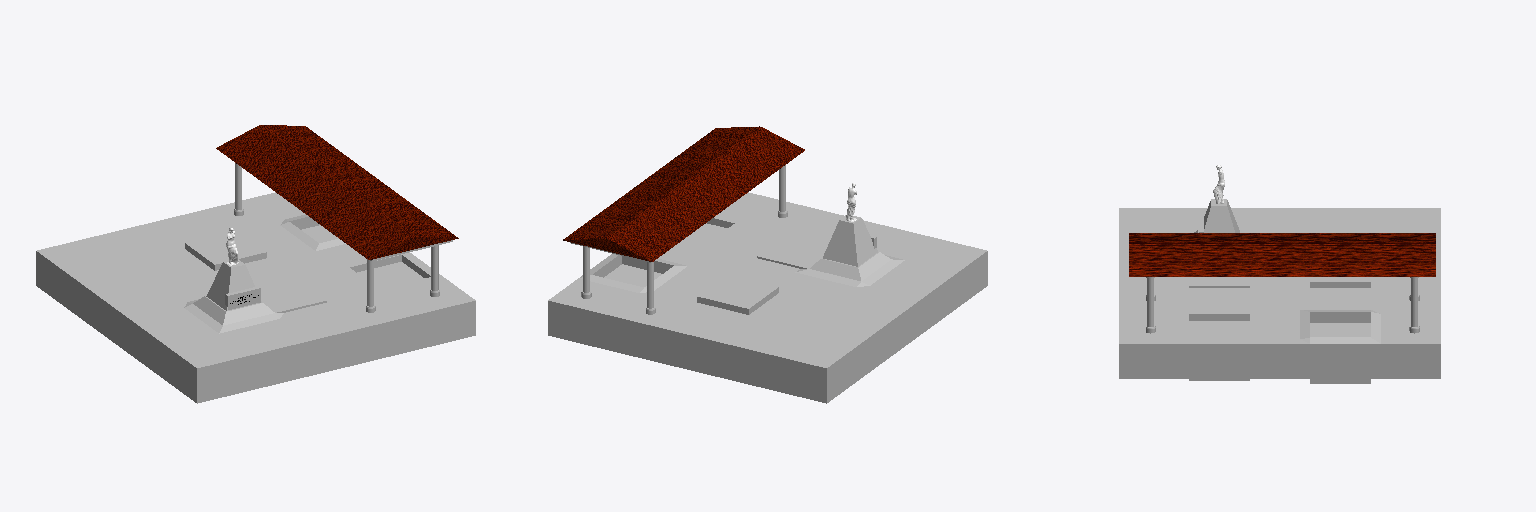
3 renders of one model, left to right at view 1: azimuth 30°, elevation 25°; view 2: azimuth 150°, elevation 25°; view 3: azimuth 270°, elevation 25°, orthographic.
Visible parts, largest first — view 1: Plane, Cube_Cube.001, Cube.001_Cube, Cylinder; view 2: Plane, Cube_Cube.001, Cube.001_Cube, Cylinder; view 3: Plane, Cube_Cube.001, Cube.001_Cube, Cylinder.
Part boxes in pixels (left/top/right/bottom): Plane: left=36, top=192, right=475, bottom=403; Cube_Cube.001: left=216, top=125, right=458, bottom=259; Cube.001_Cube: left=206, top=259, right=261, bottom=310; Cylinder: left=234, top=163, right=452, bottom=312; Plane: left=548, top=192, right=987, bottom=403; Cube_Cube.001: left=563, top=126, right=804, bottom=261; Cube.001_Cube: left=823, top=215, right=877, bottom=266; Cylinder: left=570, top=165, right=787, bottom=314; Plane: left=1119, top=208, right=1440, bottom=383; Cube_Cube.001: left=1129, top=233, right=1435, bottom=276; Cube.001_Cube: left=1199, top=199, right=1239, bottom=232; Cylinder: left=1146, top=277, right=1419, bottom=333.
Bounding box in the file's own units: 13.59 × 5.98 × 13.59.
Materials: 5 (1 with a texture image).